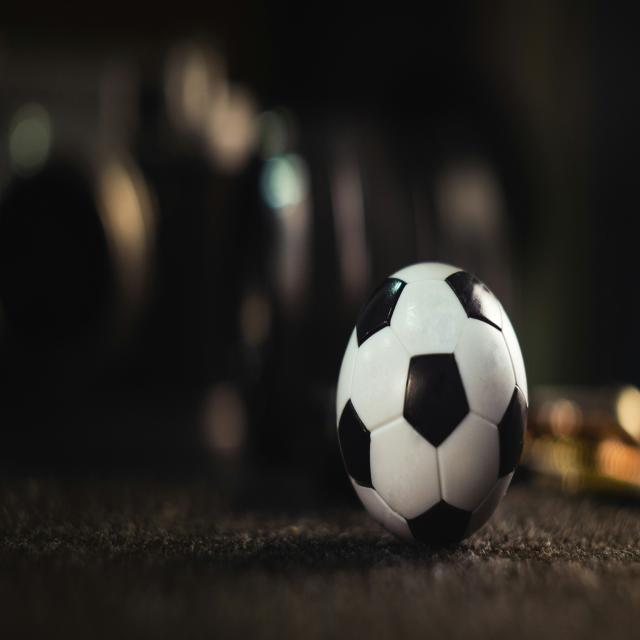Ball: (337, 263, 528, 544)
